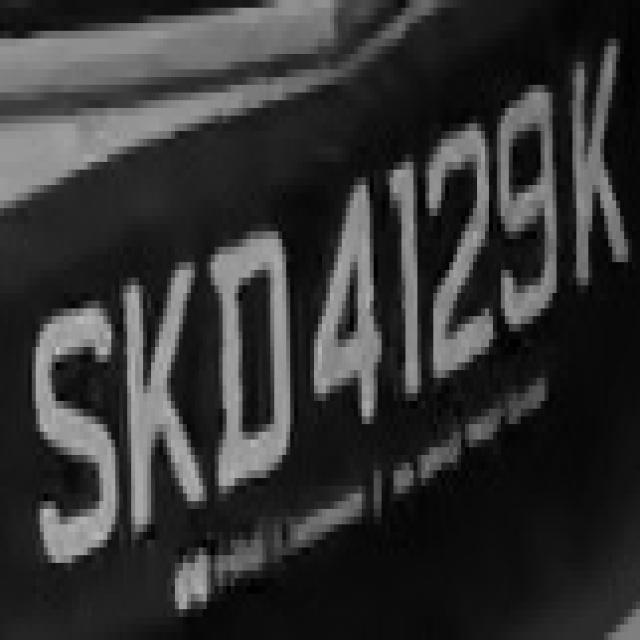1: (378, 131, 429, 424)
2: (401, 123, 493, 424)
4: (298, 178, 390, 440)
9: (481, 85, 568, 339)
D: (203, 232, 290, 524)
K: (103, 255, 207, 548), (553, 15, 632, 347)
S: (28, 278, 115, 586)
